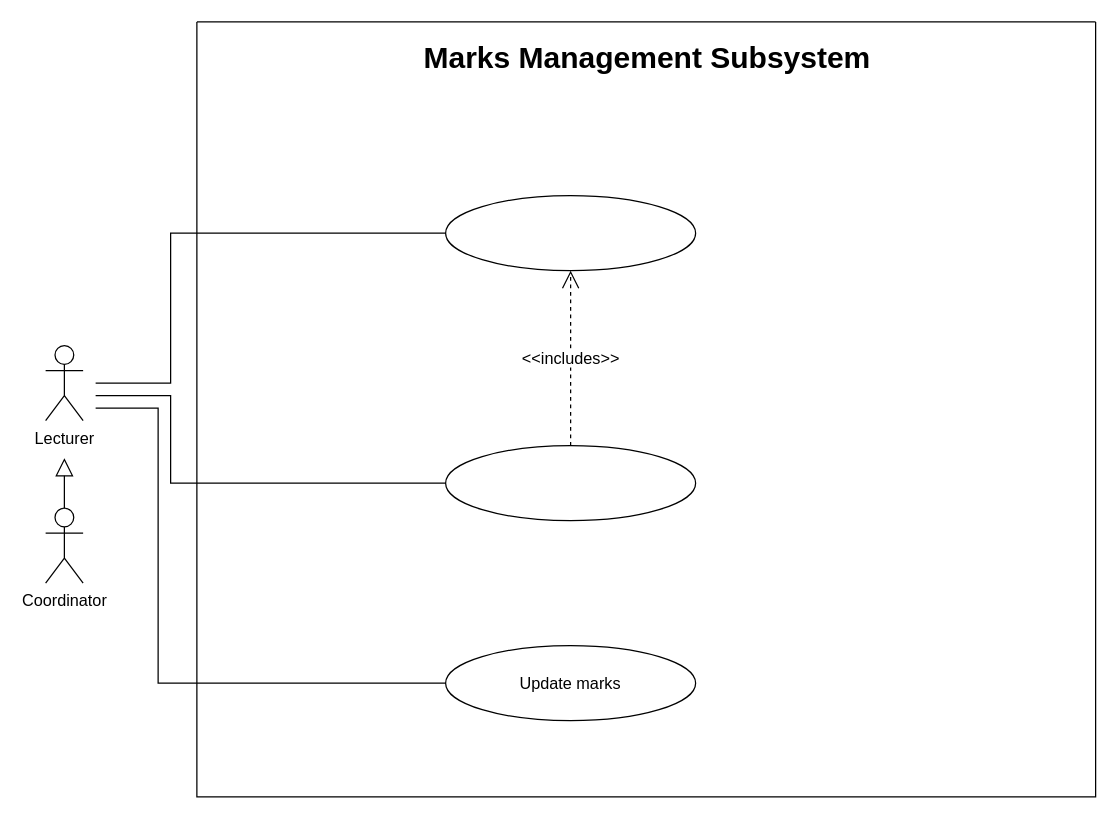
This 1118x829 diagram has some shape labels left out. Each missing label, with the box of its shape:
Enter marks: (444, 194, 696, 271)
Indicate missed submission: (444, 444, 696, 521)
